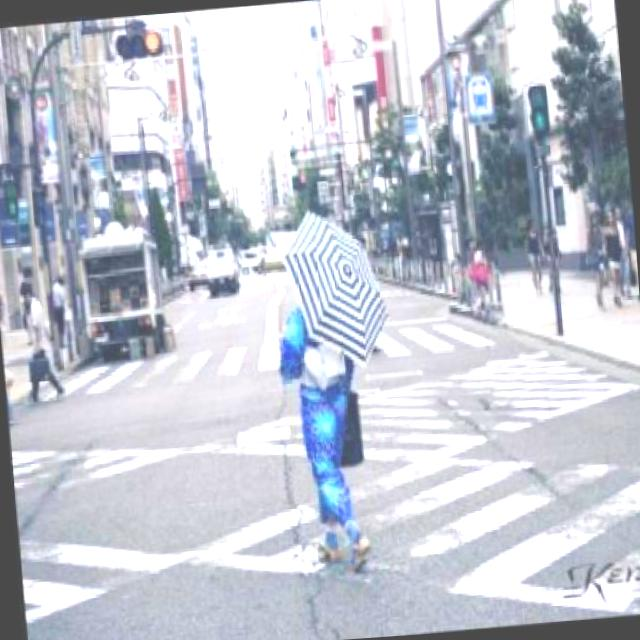Person: (274, 272, 373, 577), (13, 276, 63, 406)
